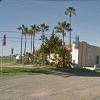Palm tree: (13, 6, 79, 44)
